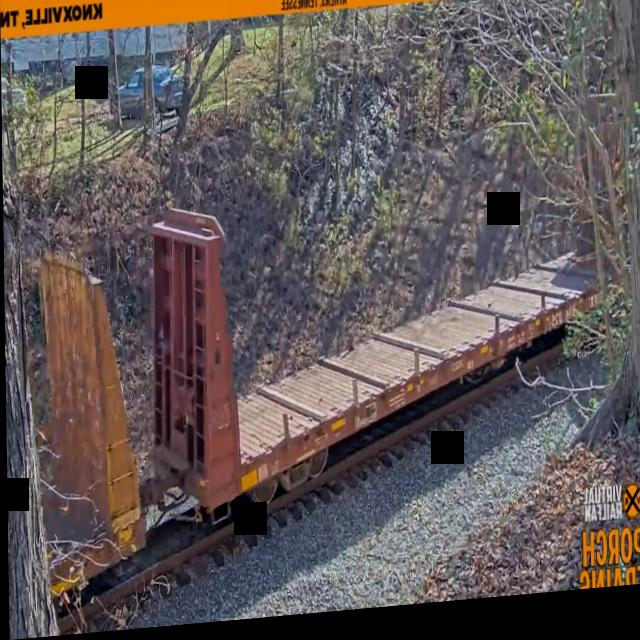flatcar_bulkhead: (146, 100, 594, 543)
